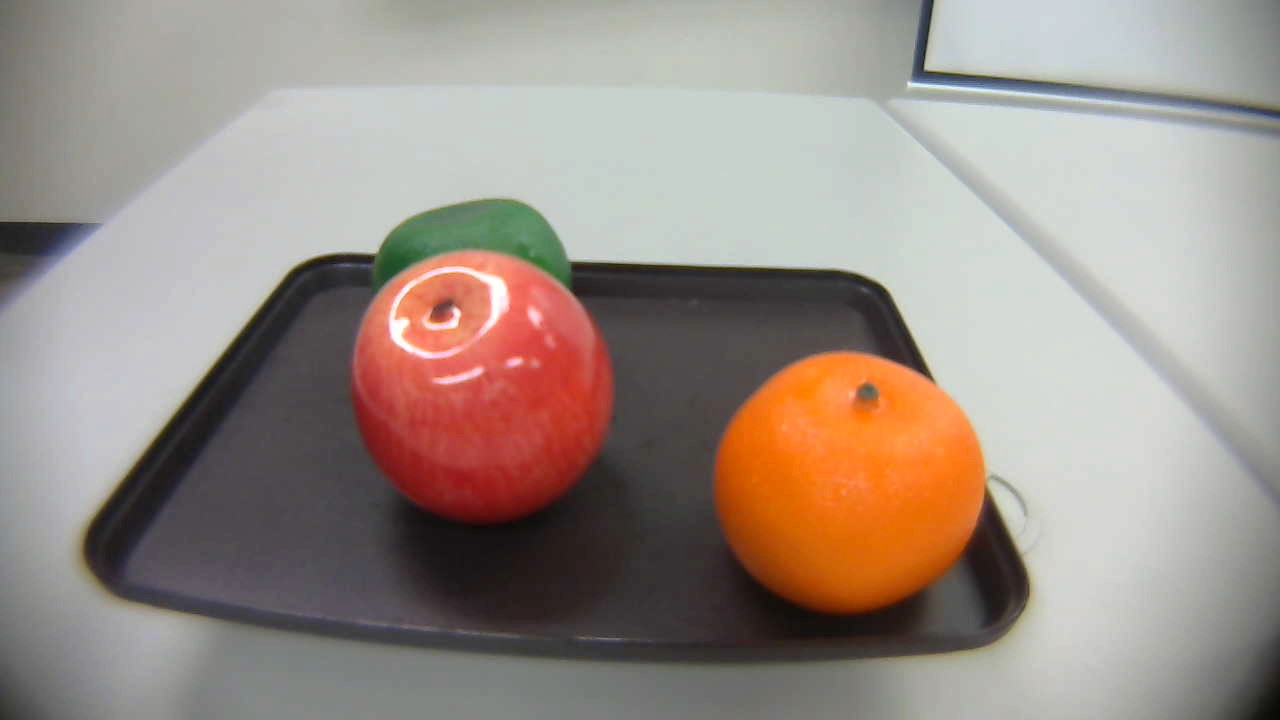green orange: (365, 187, 596, 329)
orange: (709, 351, 984, 616)
red apple: (344, 245, 622, 532)
